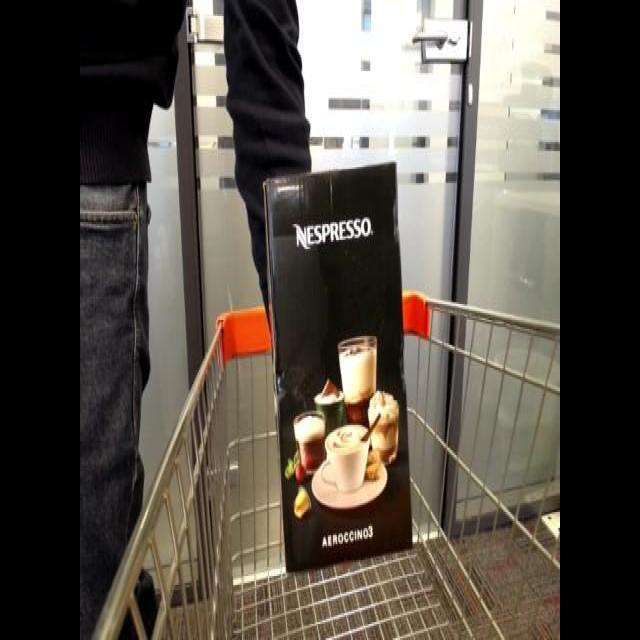Nespresso: (260, 141, 420, 583)
